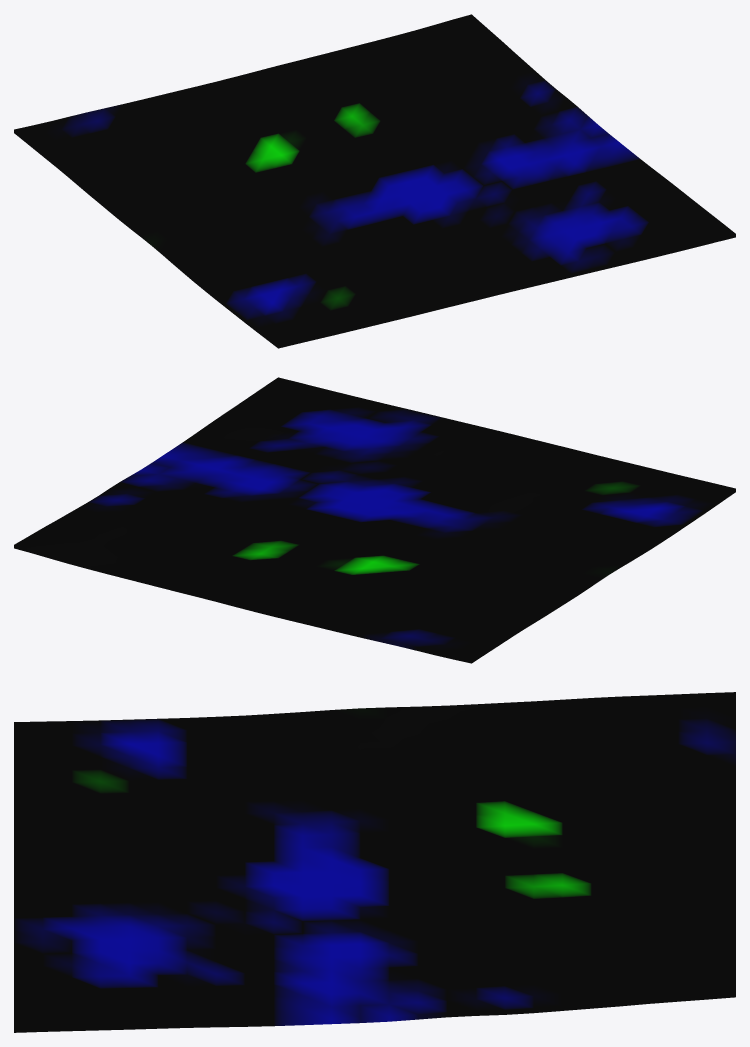
Rendered from coast_8_6.glb.
The picture shows the model from 3 angles, top to bottom: view 1: azimuth 30°, elevation 25°; view 2: azimuth 150°, elevation 25°; view 3: azimuth 270°, elevation 25°; orthographic projection. The views are drawn at different scales.
Visible parts, largest first — view 1: terrain; view 2: terrain; view 3: terrain.
Boxes of the visible parts, x1,y1,x2,y2 form: terrain: (14, 14, 735, 348); terrain: (14, 377, 735, 663); terrain: (14, 692, 735, 1032).
Bounding box in the file's own units: 200 × 12.5 × 200.
